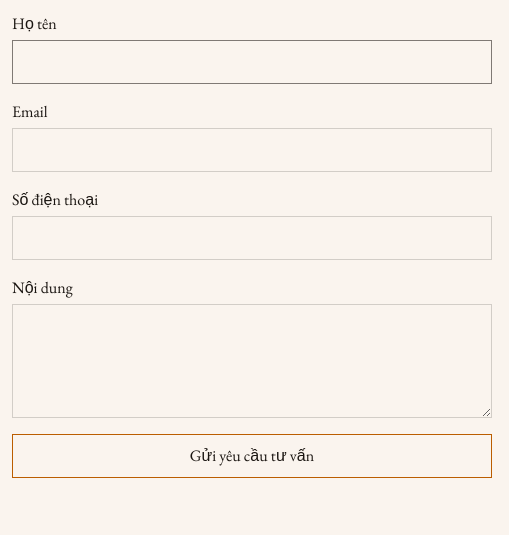
Scenario: ContactForm › shows a 3-part error message on rate-limit (429), and re-enables the button
Type "An" into the field labelled "Họ tên".
click(252, 62); type("An")  # box [12,40,492,84]
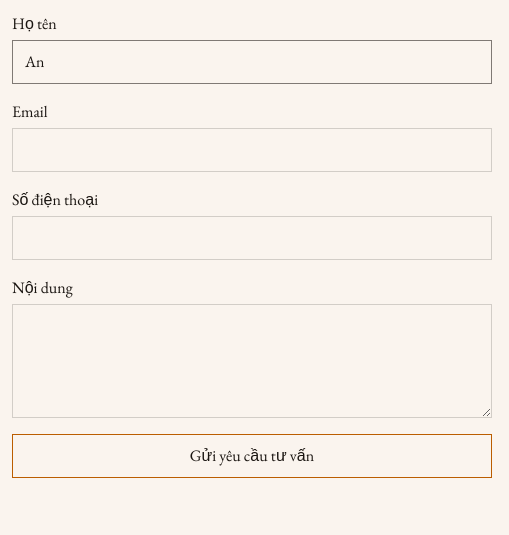
Type "an@example.com" into the field labelled "Email".
click(252, 150); type("an@example.com")  # box [12,128,492,172]
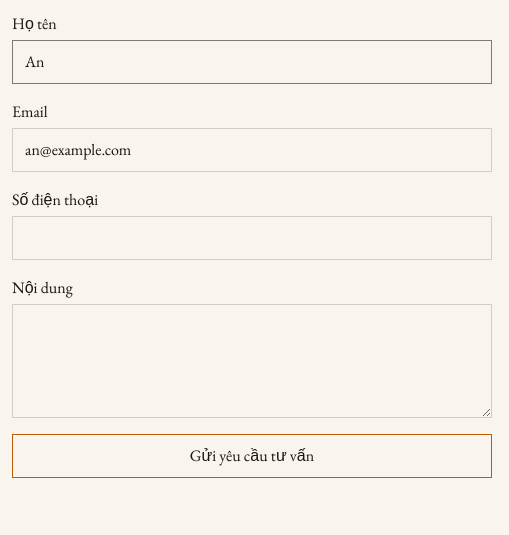
Type "Xin chào" into the text box labelled "Nội dung".
click(252, 361); type("Xin chào")  # box [12,304,492,418]
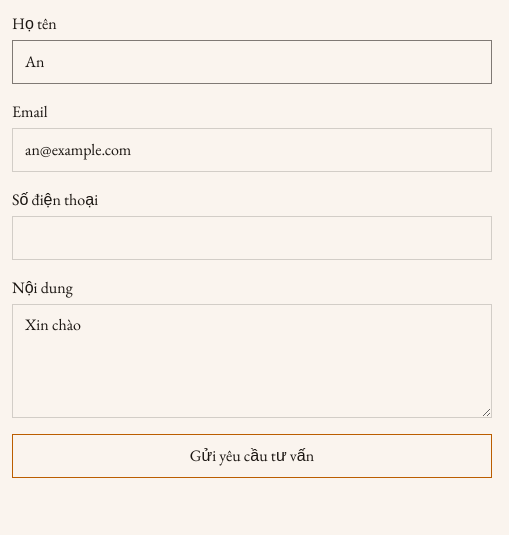
Click the button "Gửi yêu cầu tư vấn".
click(252, 456)  # box [12,434,492,478]
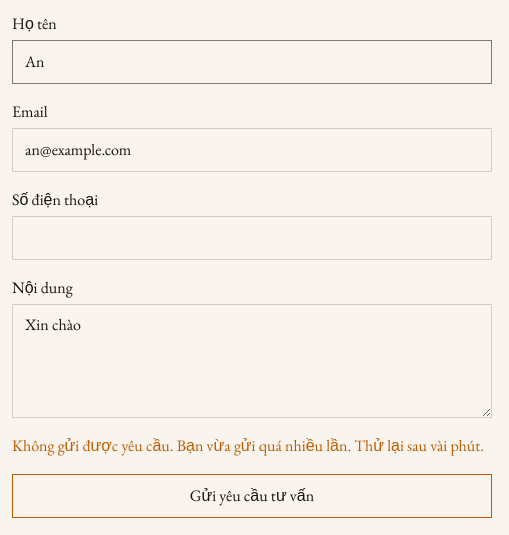
Expected: the button "Gửi yêu cầu tư vấn" is enabled, [12,474,492,518]
Now the message reads "Không gửi được yêu cầu. Bạn vừa gửi quá nhiều lần. Thử lại sau vài phút.", box [12,435,484,456]
